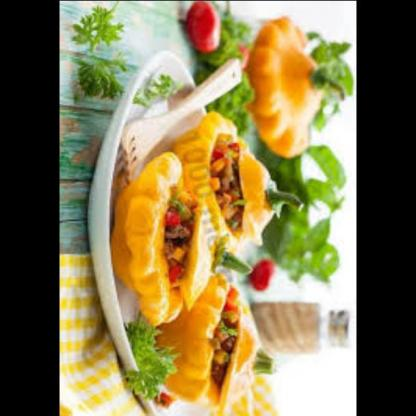squash-patisson: (244, 16, 336, 156), (121, 152, 186, 331), (150, 276, 230, 402), (181, 109, 247, 229), (221, 298, 281, 404), (186, 206, 236, 310), (242, 144, 289, 247)
tomato: (185, 0, 232, 56), (245, 254, 286, 293)
